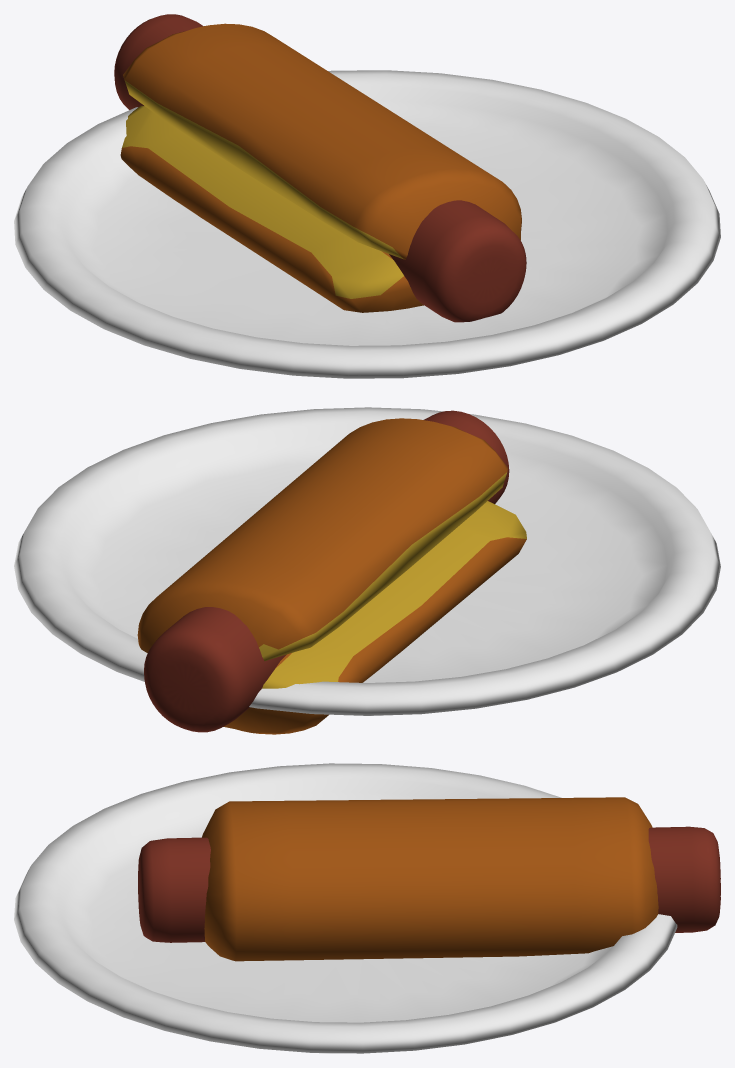
The model's file is hotdog.fbx.
3 renders of one model, top to bottom at view 1: azimuth 30°, elevation 25°; view 2: azimuth 150°, elevation 25°; view 3: azimuth 270°, elevation 25°, orthographic. The views are drawn at different scales.
Visible parts, largest first — view 1: pCylinder14, pCylinder17; view 2: pCylinder14, pCylinder17; view 3: pCylinder17, pCylinder14.
Part boxes in pixels (left/top/right/bottom): pCylinder14: left=14, top=70, right=720, bottom=378; pCylinder17: left=114, top=14, right=526, bottom=322; pCylinder14: left=14, top=407, right=720, bottom=715; pCylinder17: left=137, top=410, right=526, bottom=734; pCylinder17: left=138, top=797, right=720, bottom=961; pCylinder14: left=14, top=763, right=677, bottom=1053.
Bounding box in the file's own units: 1.97 × 0.468 × 2.1.
